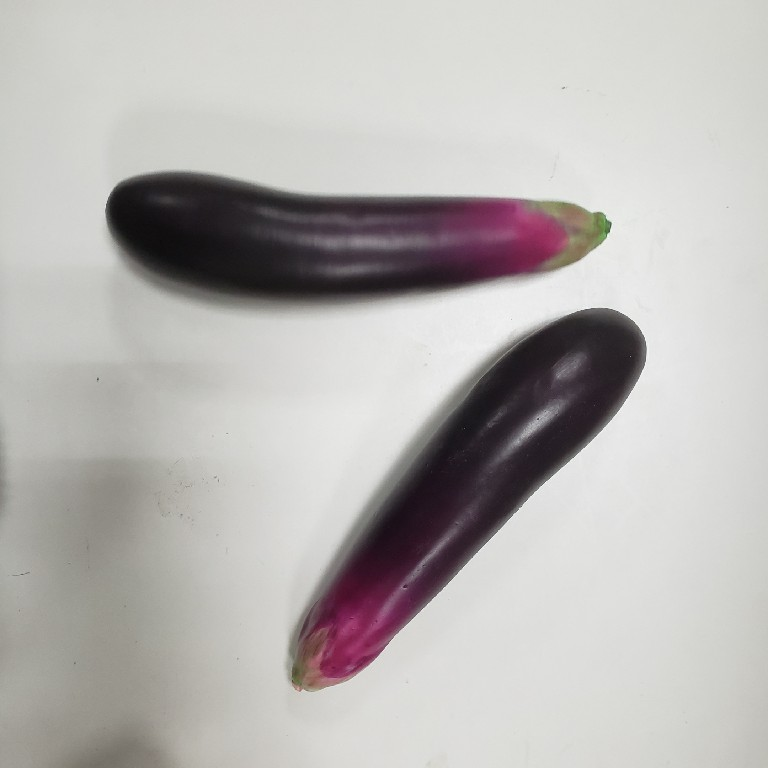fruit_eggplant: (285, 299, 651, 701), (97, 161, 619, 301)
